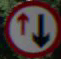Two way: (9, 8, 54, 50)
